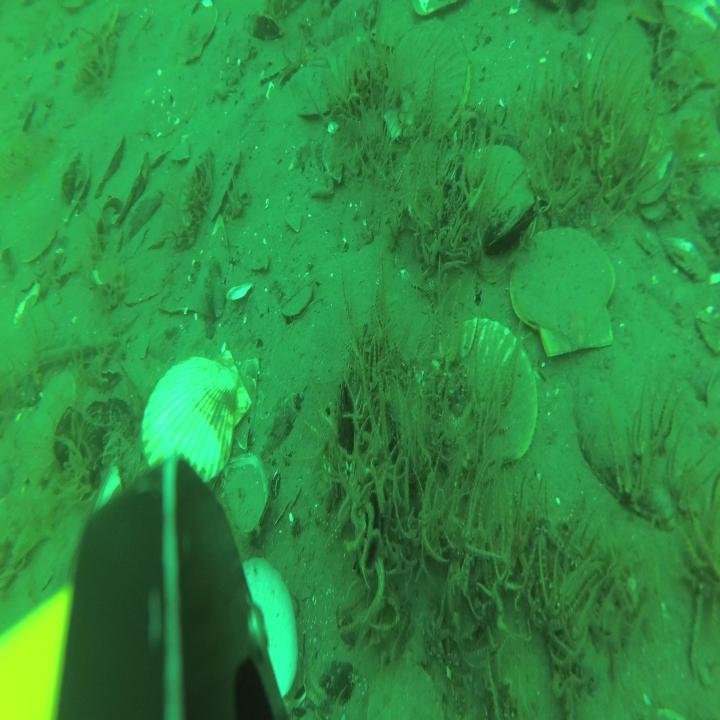scallop: (140, 349, 249, 488), (435, 320, 540, 464), (510, 228, 618, 356), (388, 25, 469, 137), (461, 145, 533, 251), (589, 23, 655, 121), (369, 660, 443, 720), (181, 7, 217, 67), (18, 219, 57, 268)
